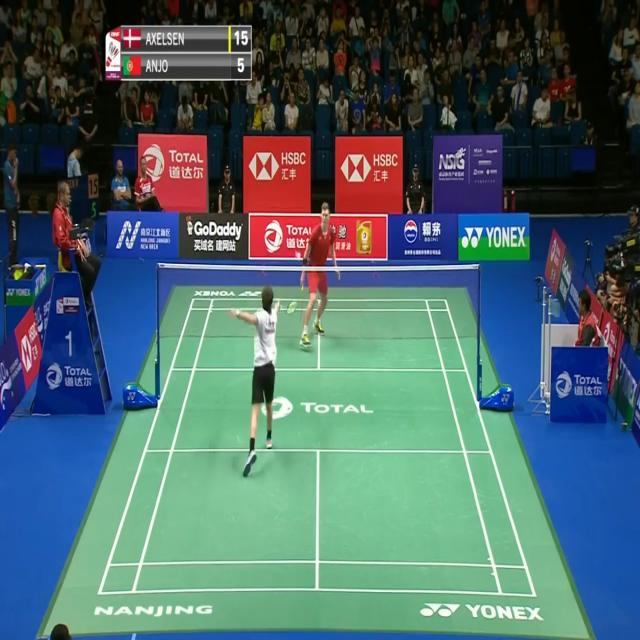Player1: (228, 279, 284, 475)
Player2: (296, 197, 342, 357)
